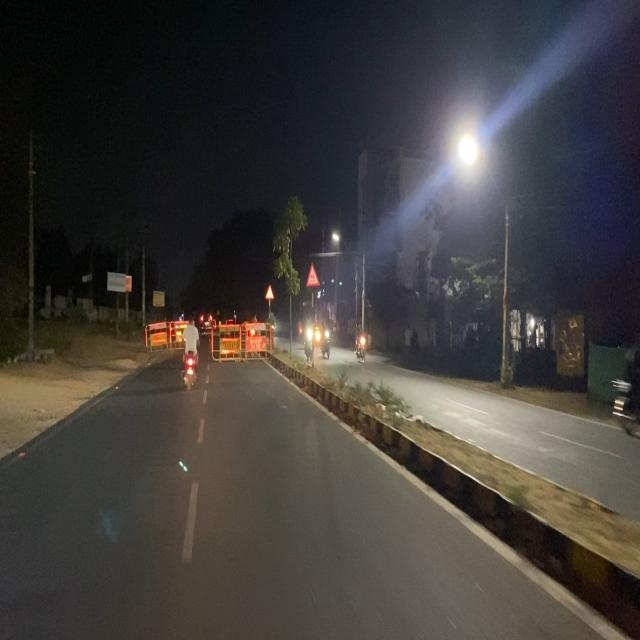bien_nguy_hiem: (306, 261, 320, 287)
